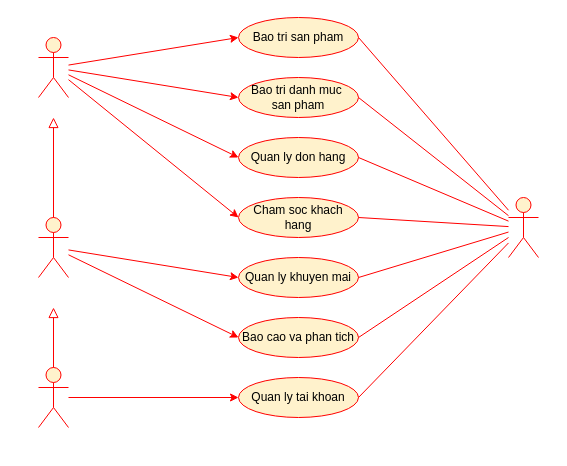
Image size: 567x466. Some labels were removed from this diagram. Here are the shapes that lost their labels. From the top down, the box of each, then its label:
(38, 36, 68, 98): Nhan Vien
(38, 216, 68, 278): Quan Ly
(508, 196, 538, 258): He Thong
(38, 366, 68, 428): Quan Tri Vien
